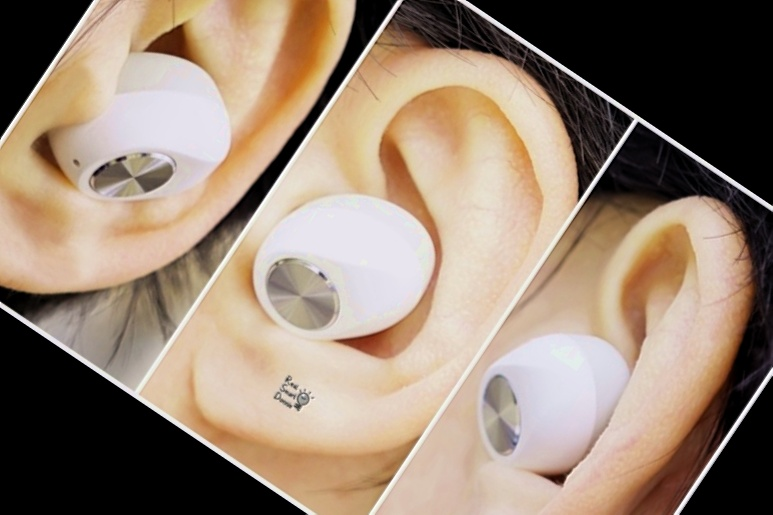earphone: (155, 0, 623, 515), (0, 0, 400, 385), (380, 145, 773, 515)
